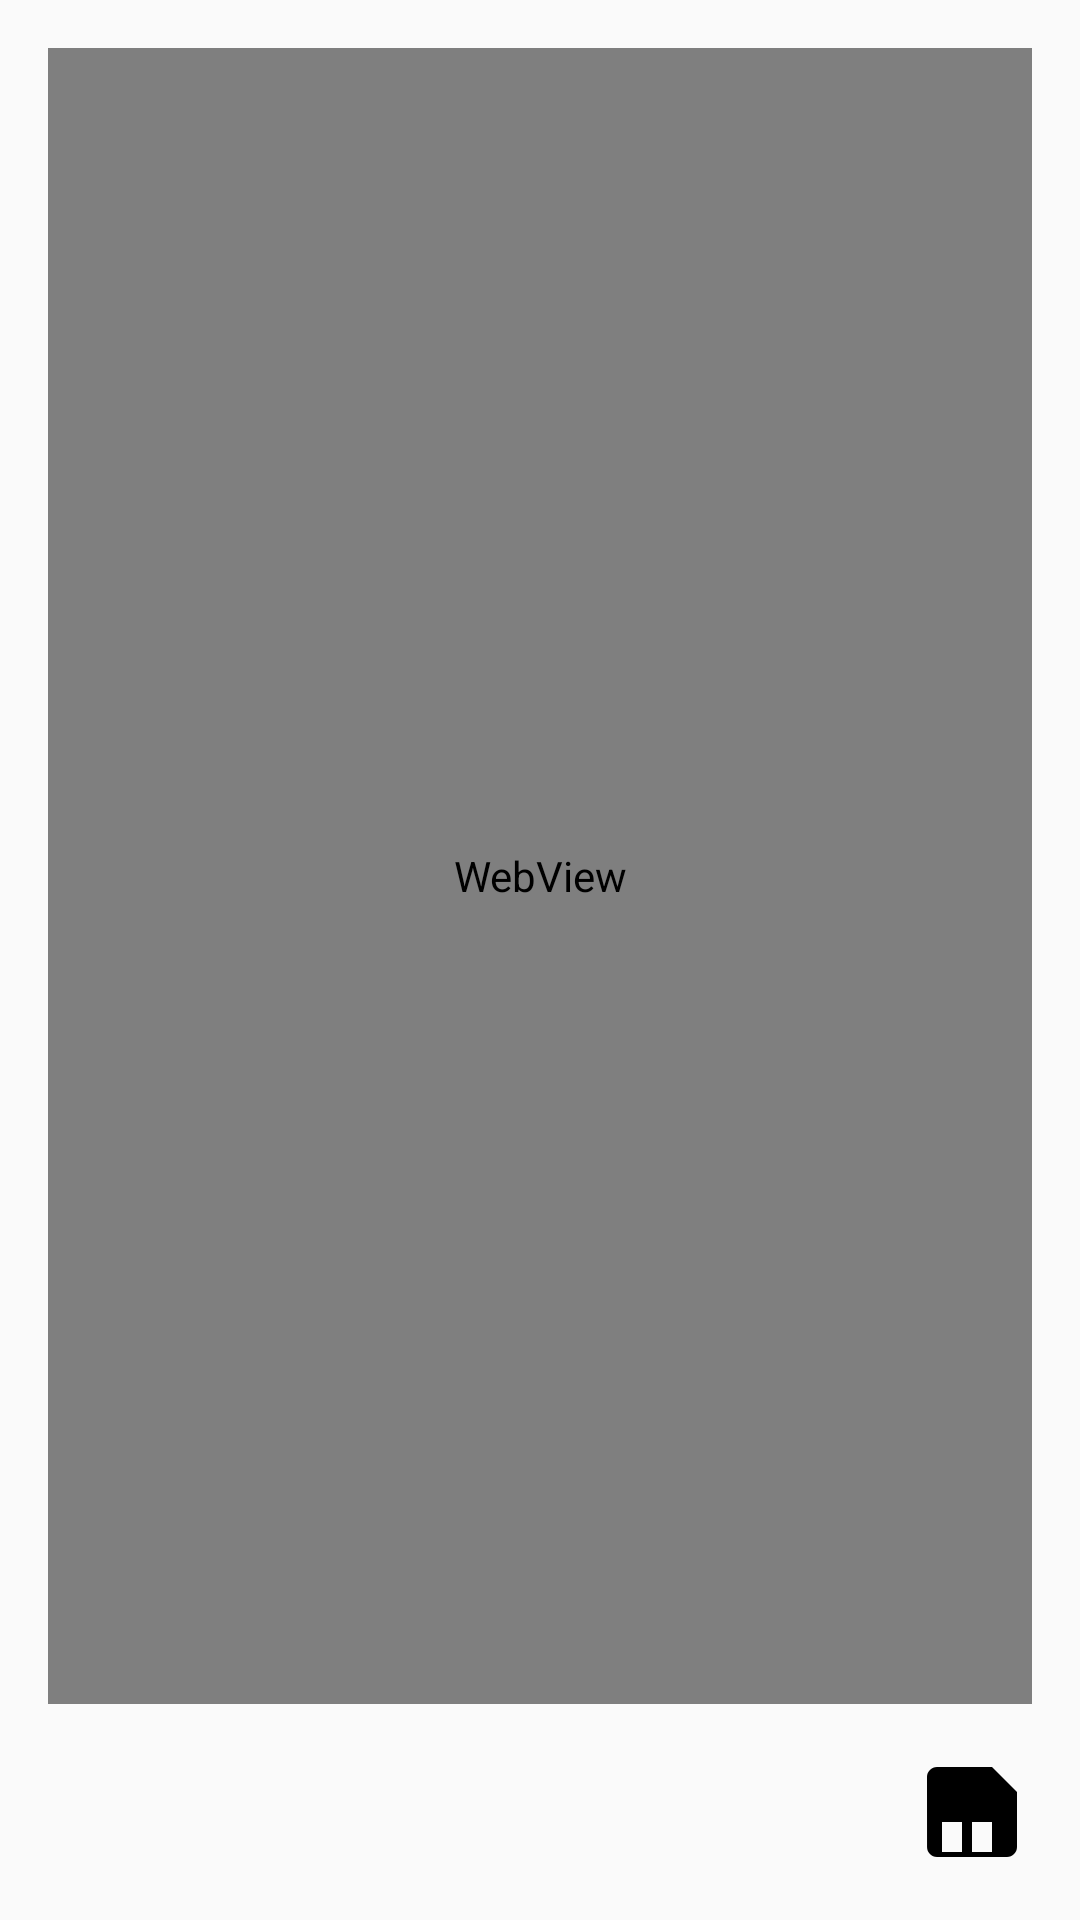

Where icons sit on this 1080 x 1920 app screen, as (x1, y1, x2, y2):
Save button: (927, 1767, 1017, 1857)
